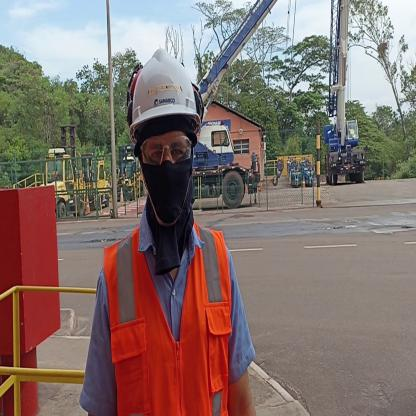Balaclava: (136, 119, 200, 256)
Capacete: (128, 44, 198, 116)
colete: (103, 238, 233, 416)
